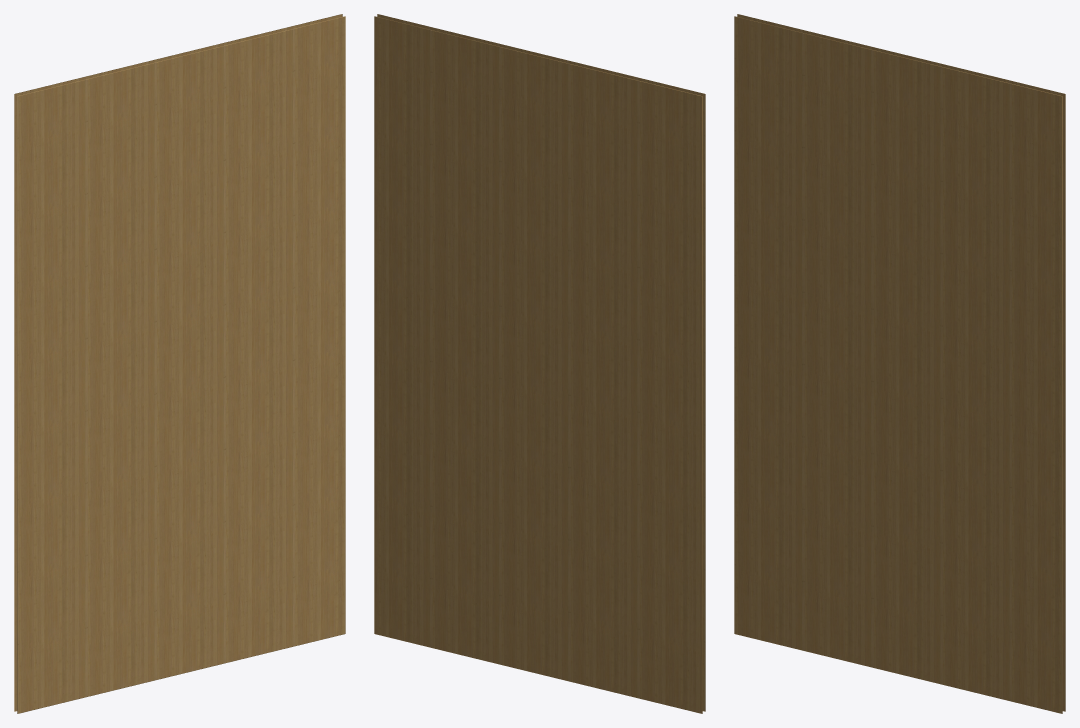
3 renders of one model, left to right at view 1: azimuth 30°, elevation 25°; view 2: azimuth 150°, elevation 25°; view 3: azimuth 330°, elevation 25°, orthographic.
Visible parts, largest first — view 1: part25:cabinet door 3; view 2: part25:cabinet door 3; view 3: part25:cabinet door 3.
Part boxes in pixels (box(x1,y1,x2,y2)): part25:cabinet door 3: box(14, 14, 345, 713); part25:cabinet door 3: box(374, 14, 705, 713); part25:cabinet door 3: box(734, 14, 1065, 713).
Bounding box in the file's own units: 1.19 × 2.14 × 0.02.
1 material, 1 textured.
